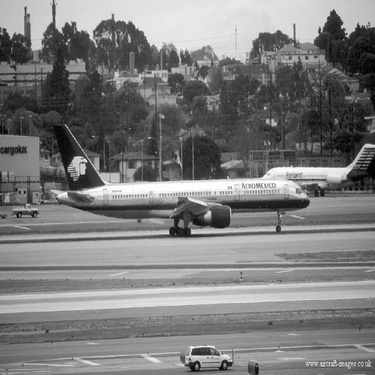airplane: (36, 117, 317, 254), (232, 133, 372, 198)
